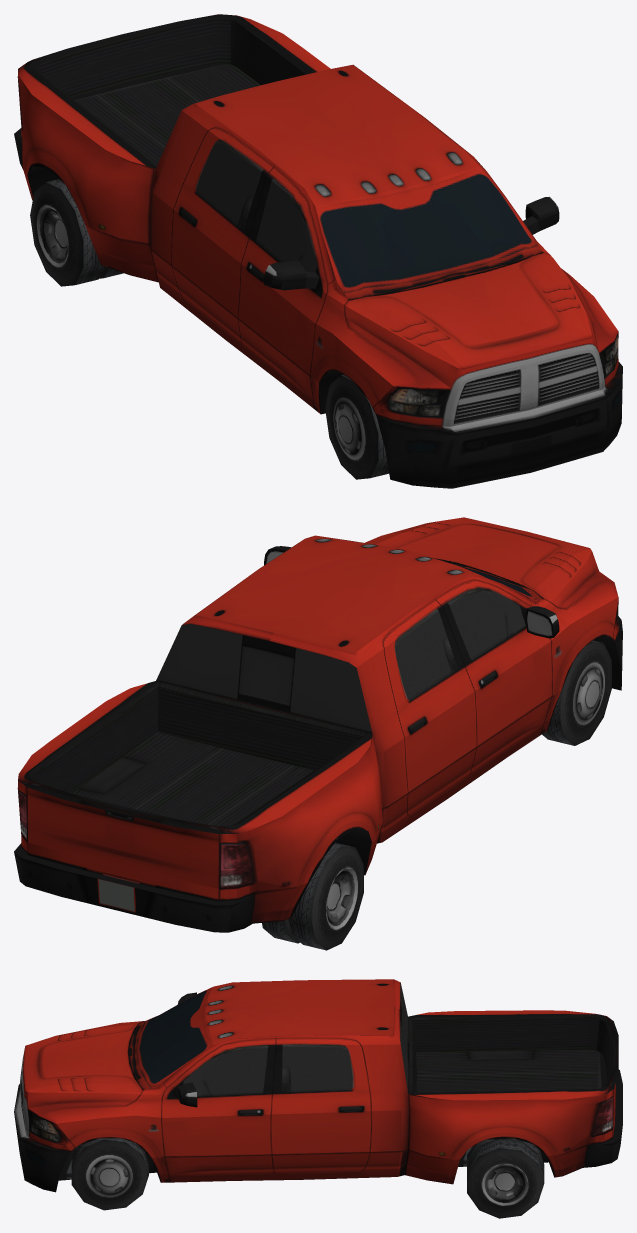
3 renders of one model, top to bottom at view 1: azimuth 30°, elevation 25°; view 2: azimuth 150°, elevation 25°; view 3: azimuth 270°, elevation 25°, orthographic. The views are drawn at different scales.
Parts seen in each view (by area): view 1: Body, Wheel_BR, Wheel_FR; view 2: Body, Wheel_BR, Wheel_FR; view 3: Body, Wheel_BL, Wheel_FL.
Boxes of the visible parts, <box> form: Body: <box>14,14,622,488</box>; Wheel_BR: <box>30,179,123,286</box>; Wheel_FR: <box>325,374,389,479</box>; Body: <box>14,517,622,932</box>; Wheel_BR: <box>262,842,363,950</box>; Wheel_FR: <box>542,640,611,745</box>; Body: <box>14,979,622,1192</box>; Wheel_BL: <box>467,1138,544,1218</box>; Wheel_FL: <box>71,1138,148,1210</box>.
Size of the model in its own units: 403 by 294 by 1000.
